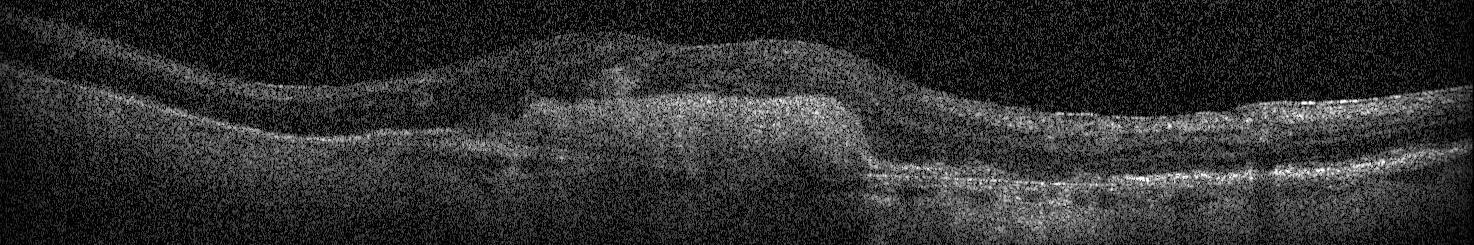subretinal_hyperreflective_material: (371, 94, 880, 174)
